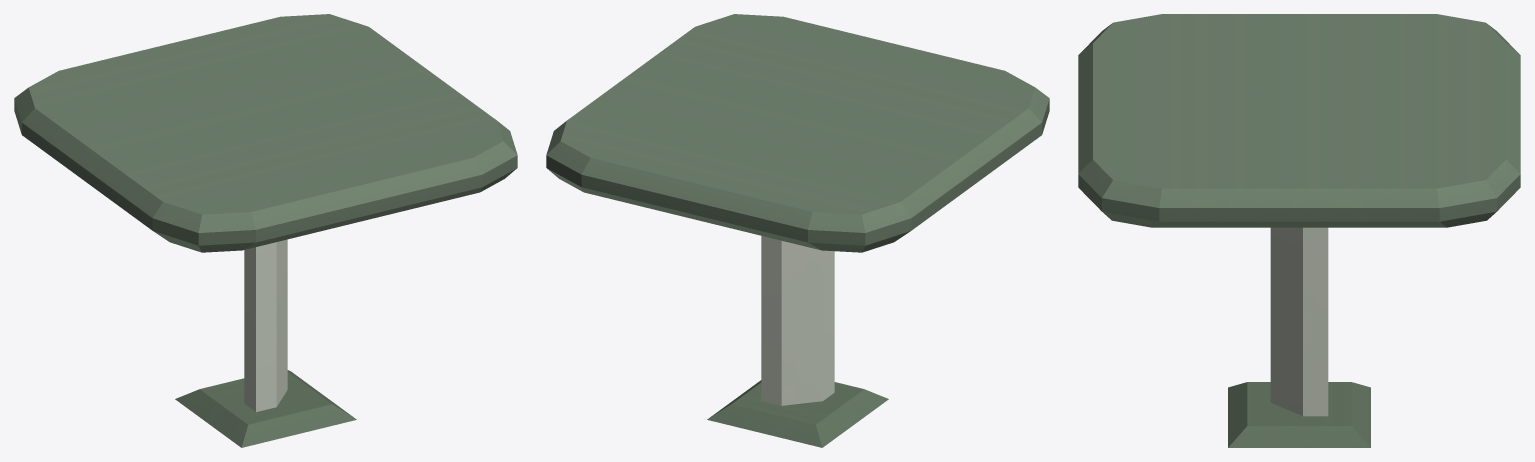
File: table.glb
3 renders of one model, left to right at view 1: azimuth 30°, elevation 25°; view 2: azimuth 150°, elevation 25°; view 3: azimuth 270°, elevation 25°, orthographic. The views are drawn at different scales.
Parts seen in each view (by area): view 1: Table.001; view 2: Table.001; view 3: Table.001.
Part boxes in pixels (box(x1,y1,x2,y2)): Table.001: box(14, 14, 517, 447); Table.001: box(546, 14, 1049, 447); Table.001: box(1078, 14, 1520, 447).
Bounding box in the file's own units: 1 × 0.7888 × 1.
1 material, 1 textured.
